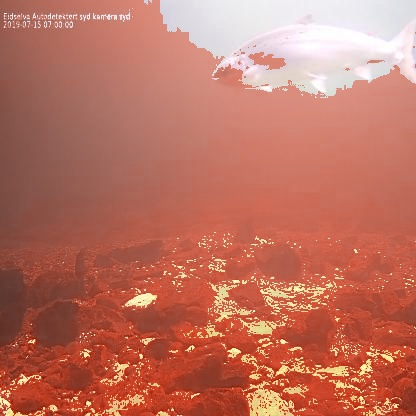salmon: (210, 9, 416, 99)
